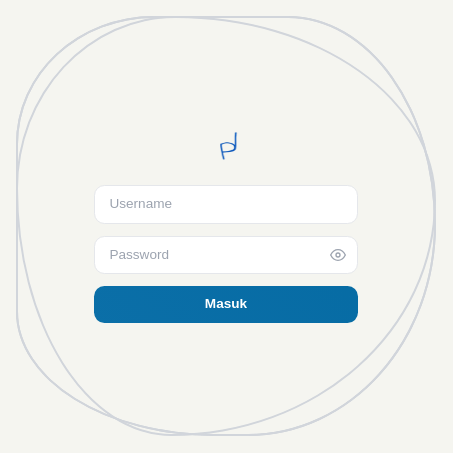
Test: LoginPage › submit gagal menampilkan pesan error standar jika bukan rate limit
Type "admin" into the field with id "login-username" at (226, 205), box x1=94 y1=185 x2=358 y2=224
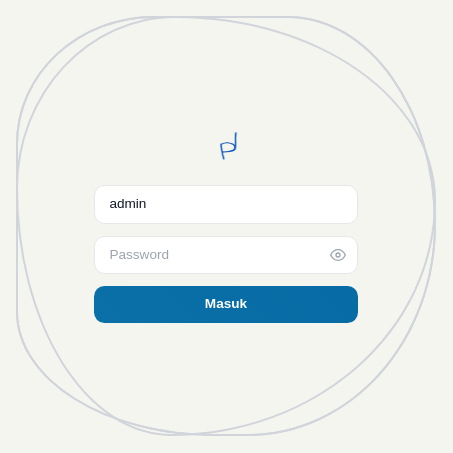
Type "wrong" into the password field with id "login-password" at (226, 255), box x1=94 y1=236 x2=358 y2=274
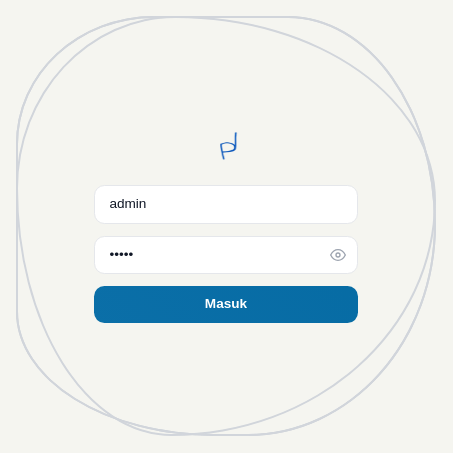
Submit the form, box x1=94 y1=185 x2=358 y2=323
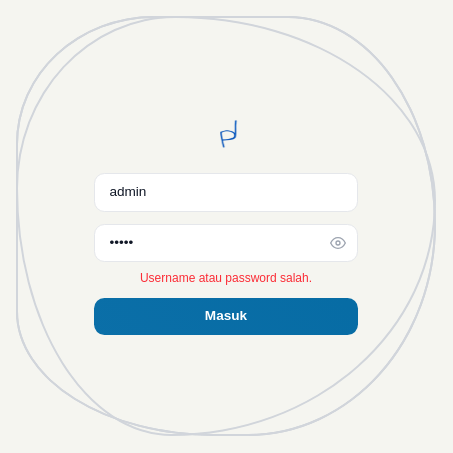
Check: the text "Username atau password salah." is shown, box x1=140 y1=271 x2=312 y2=285
